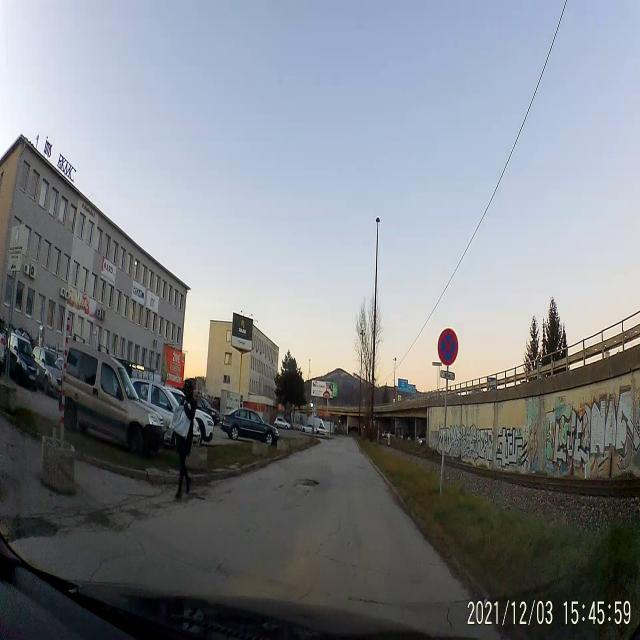Pothole: (292, 476, 320, 489)
